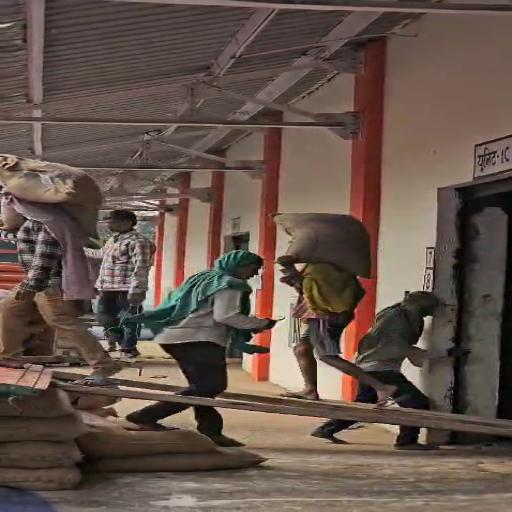bag: (4, 150, 122, 240), (264, 206, 388, 280)
